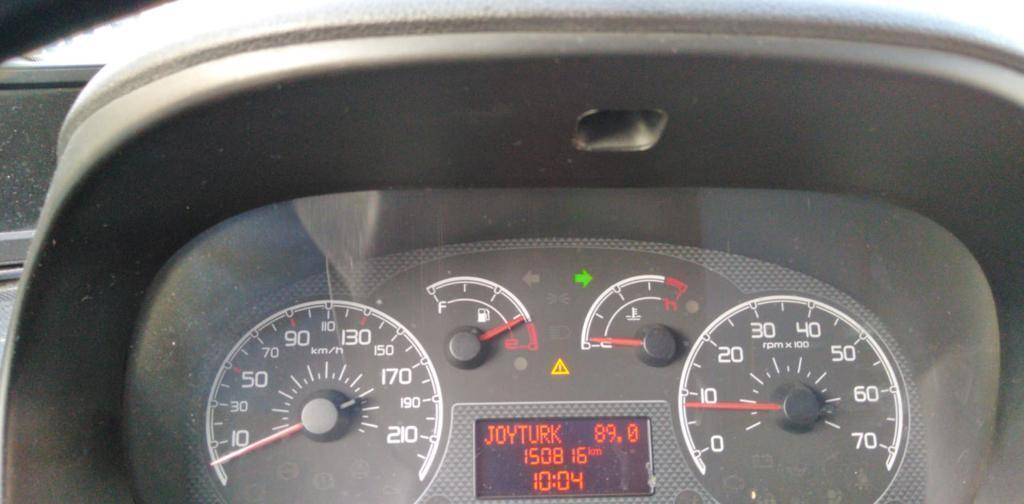,: (617, 435, 622, 443)
0: (538, 469, 551, 492), (556, 469, 569, 491), (626, 422, 639, 443), (540, 447, 551, 465)
1: (531, 470, 538, 490), (521, 447, 528, 465), (569, 446, 575, 464)
4: (569, 470, 584, 490)
5: (528, 446, 539, 465)
6: (576, 445, 587, 465)
8: (593, 423, 605, 443), (552, 446, 564, 465)
9: (605, 423, 616, 443)
X: (549, 422, 562, 444), (527, 422, 539, 444), (483, 423, 494, 446), (506, 423, 517, 445), (495, 424, 506, 445), (539, 423, 550, 444), (517, 423, 527, 444), (593, 446, 602, 455), (588, 444, 593, 456), (552, 474, 555, 488)
odometer: (470, 412, 654, 502)
